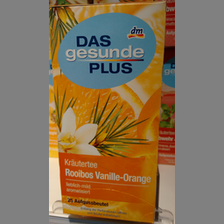tea: (48, 1, 166, 223)
